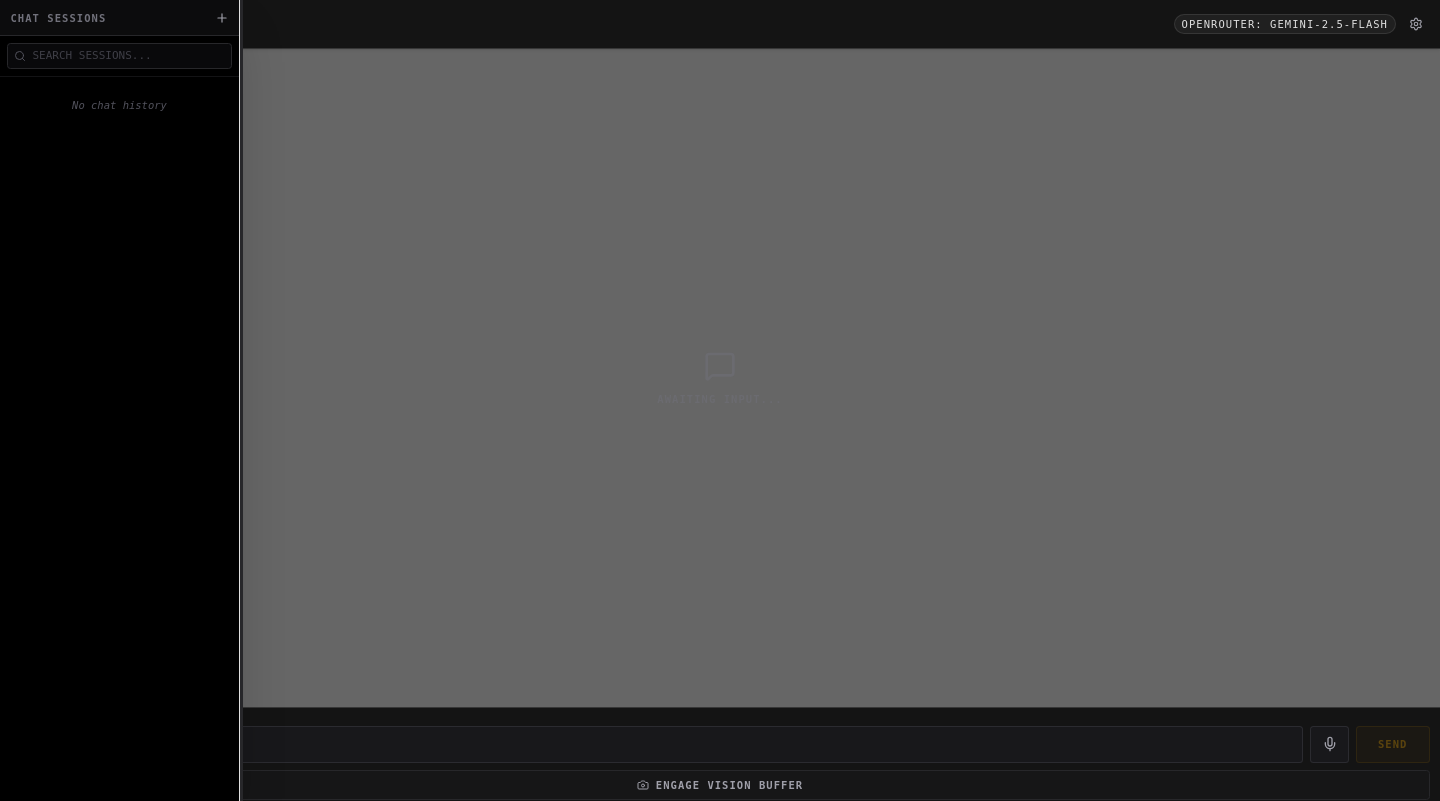
OpenRouterWidget Enhancements Tests › should toggle session settings drawer and render options
What coordinates should you click on to do the following:
click the button titled "Session Settings"
I would click on:
 (1416, 24)
Its box is 1403,10 -> 1430,37.
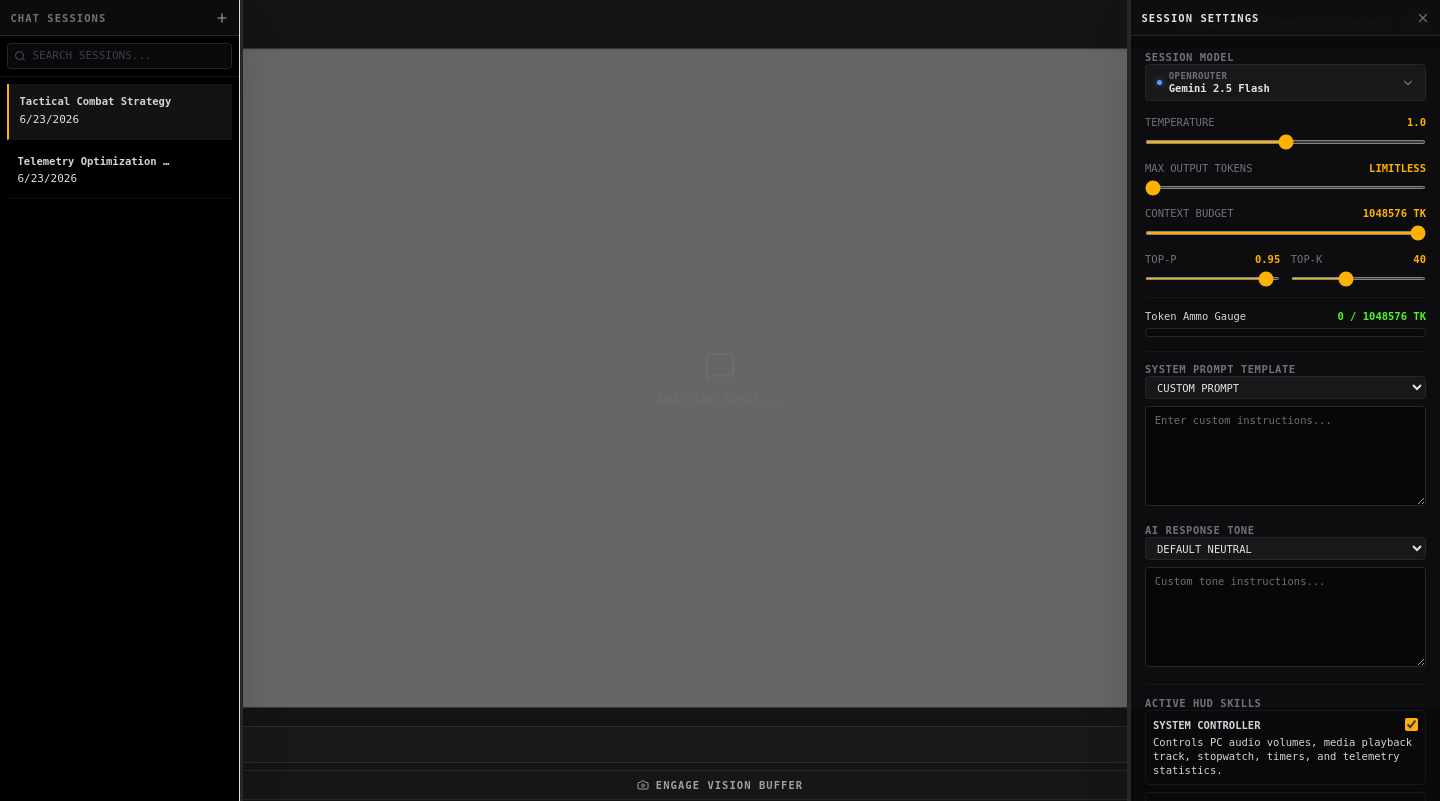
Expected: the text "Session Model" is shown, 1145,51 -> 1234,63
Expected: the text "Temperature" is shown, 1145,115 -> 1214,129
Expected: the text "Token Ammo Gauge" is shown, 1145,309 -> 1246,323
